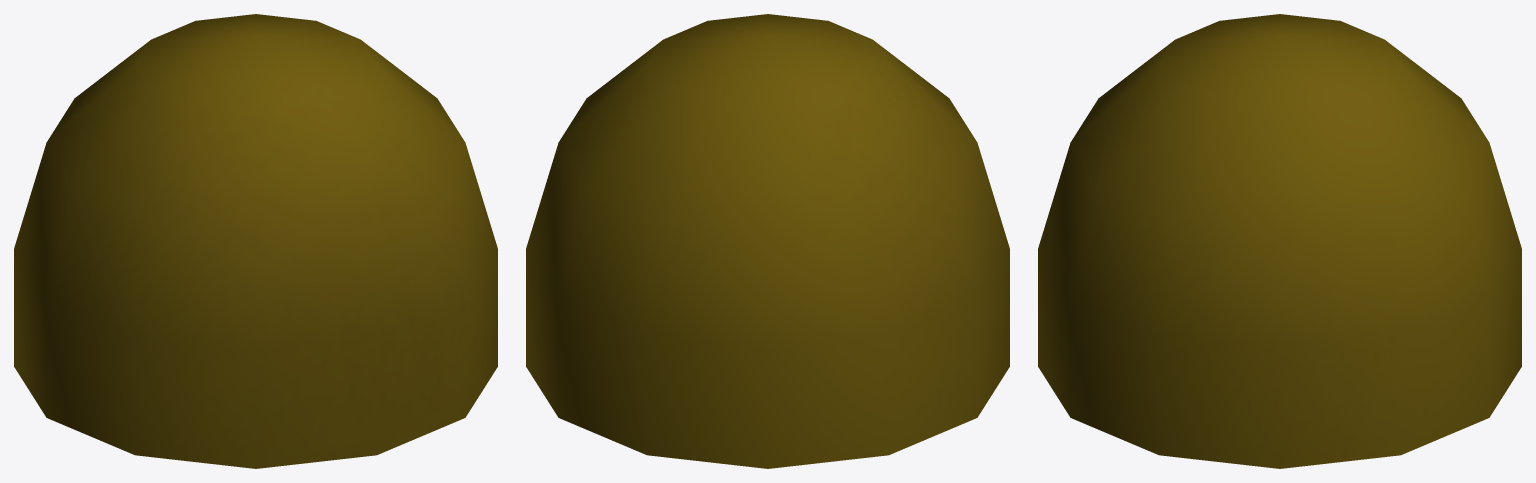
File: Console_Light_Yellow.fbx
3 renders of one model, left to right at view 1: azimuth 30°, elevation 25°; view 2: azimuth 150°, elevation 25°; view 3: azimuth 270°, elevation 25°, orthographic.
Visible parts, largest first — view 1: Console_Light_Yellow; view 2: Console_Light_Yellow; view 3: Console_Light_Yellow.
Part boxes in pixels (x1,y1,x2,y2): Console_Light_Yellow: (14, 14, 497, 468); Console_Light_Yellow: (526, 14, 1009, 468); Console_Light_Yellow: (1038, 14, 1521, 468).
Bounding box in the file's own units: 2.36 × 1.77 × 2.36.
